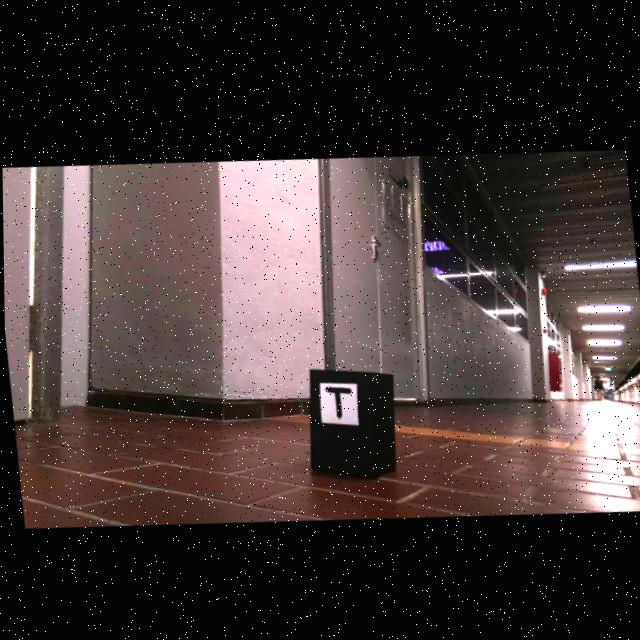T: (324, 383, 351, 414)
